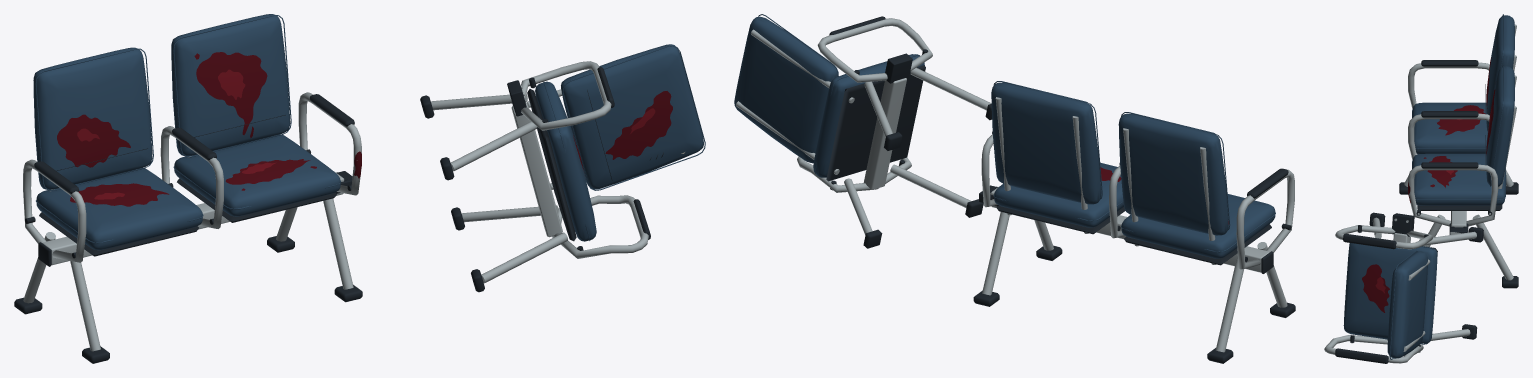
The model's file is waiting_chair_section.glb.
The picture shows the model from 3 angles, left to right: view 1: azimuth 30°, elevation 25°; view 2: azimuth 150°, elevation 25°; view 3: azimuth 270°, elevation 25°; orthographic projection. The views are drawn at different scales.
Visible parts, largest first — view 1: WAITING_SECTION_OUTBREAK_V3_Static; view 2: WAITING_SECTION_OUTBREAK_V3_Static; view 3: WAITING_SECTION_OUTBREAK_V3_Static.
Boxes of the visible parts, x1,y1,x2,y2 form: WAITING_SECTION_OUTBREAK_V3_Static: [14, 14, 705, 363]; WAITING_SECTION_OUTBREAK_V3_Static: [734, 14, 1295, 363]; WAITING_SECTION_OUTBREAK_V3_Static: [1324, 14, 1518, 363].
Size of the model in its own units: 2.69 by 0.9946 by 0.9663.
